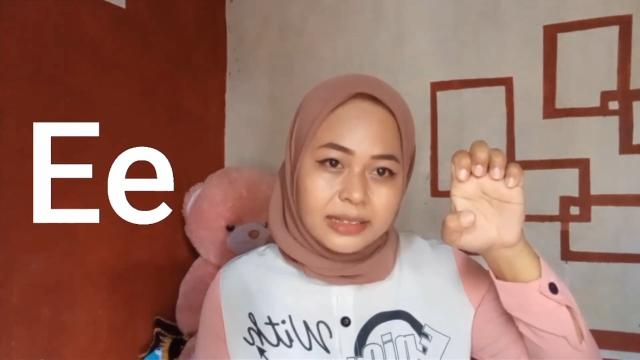E: (438, 138, 528, 250)
